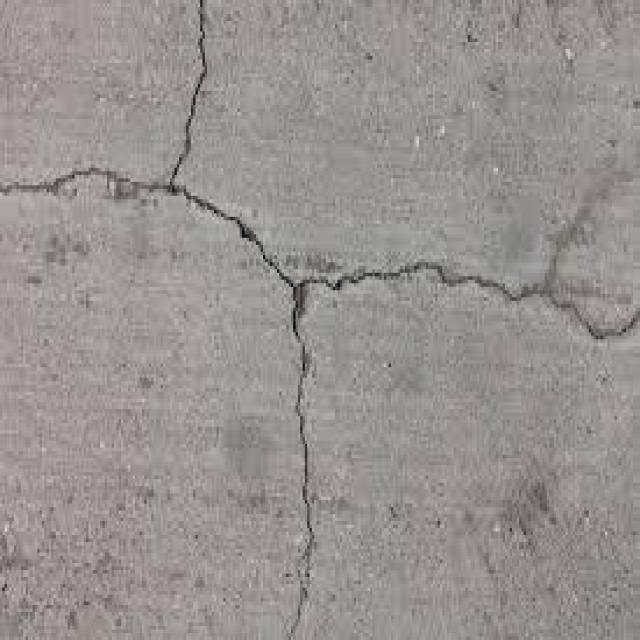Crack: (0, 10, 635, 640)
